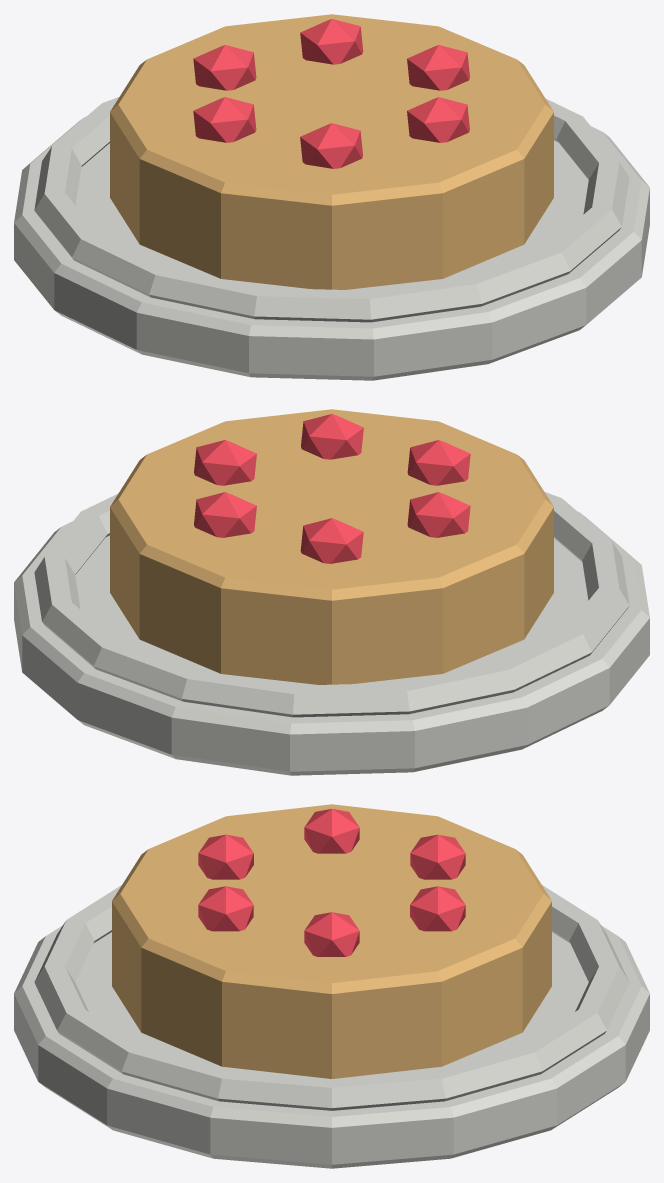
File: strawberry_pie.glb
3 renders of one model, top to bottom at view 1: azimuth 30°, elevation 25°; view 2: azimuth 150°, elevation 25°; view 3: azimuth 270°, elevation 25°, orthographic.
Visible parts, largest first — view 1: FTF_Dish_StrawberryPie_StaticMesh; view 2: FTF_Dish_StrawberryPie_StaticMesh; view 3: FTF_Dish_StrawberryPie_StaticMesh.
Boxes of the visible parts, x1,y1,x2,y2 form: FTF_Dish_StrawberryPie_StaticMesh: [14, 14, 649, 380]; FTF_Dish_StrawberryPie_StaticMesh: [14, 409, 649, 775]; FTF_Dish_StrawberryPie_StaticMesh: [14, 804, 649, 1168].
Size of the model in its own units: 0.78 by 0.24 by 0.78.
